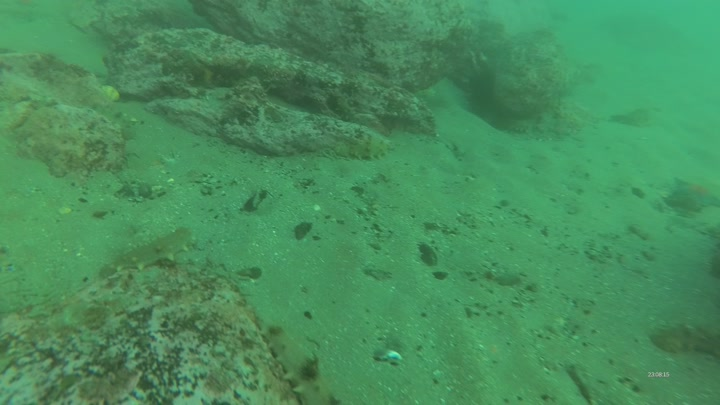holothurian: (257, 316, 335, 405), (103, 226, 197, 280), (652, 324, 720, 358), (333, 134, 391, 163)
starfish: (662, 173, 720, 215)
